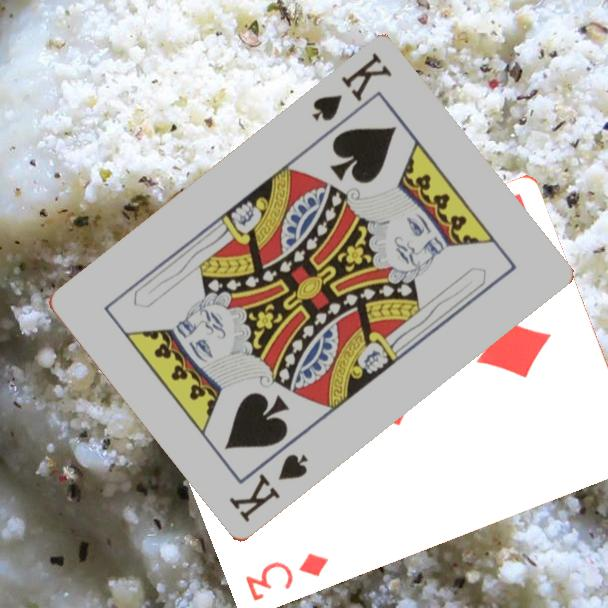d03: (242, 548, 332, 603)
s13: (308, 49, 395, 125), (225, 451, 311, 526)
